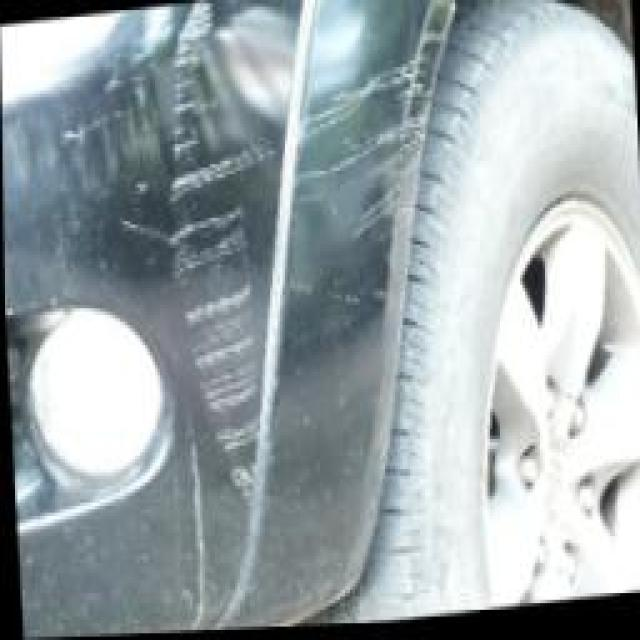Bumper: (105, 0, 467, 551)
